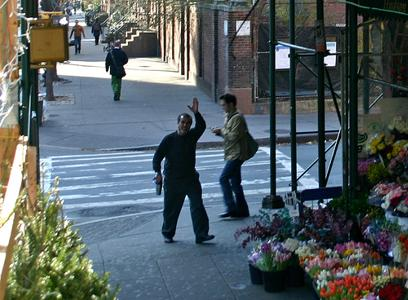person: (152, 98, 216, 245)
